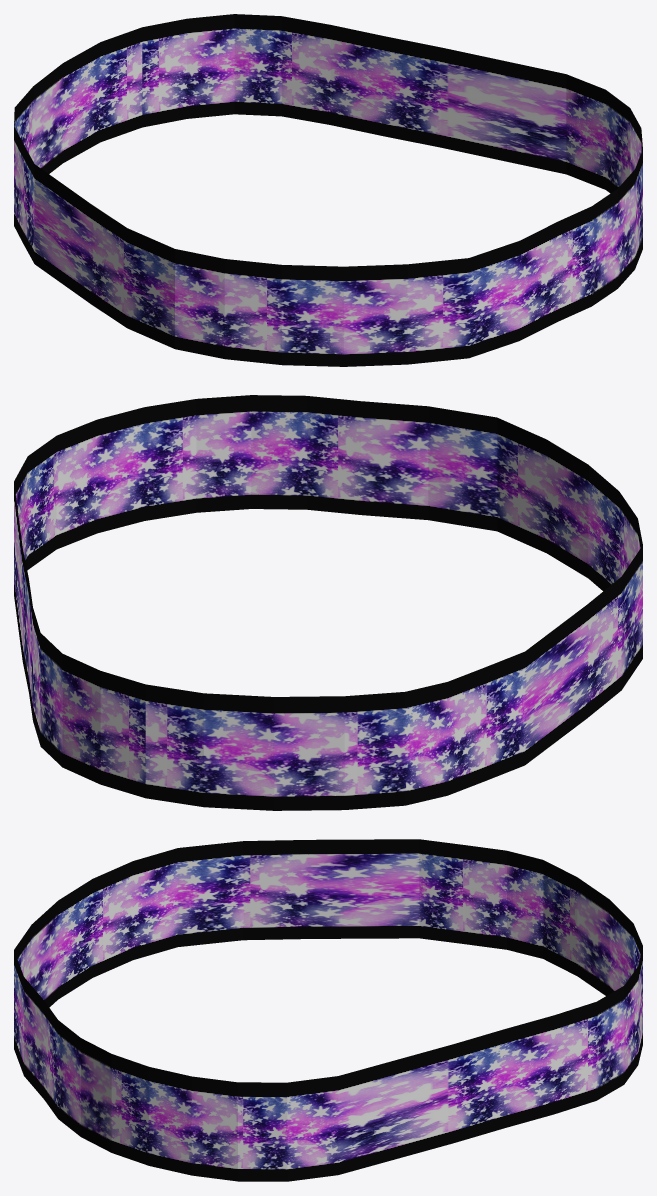
File: milkyWay.fbx
The picture shows the model from 3 angles, top to bottom: view 1: azimuth 30°, elevation 25°; view 2: azimuth 150°, elevation 25°; view 3: azimuth 270°, elevation 25°; orthographic projection. The views are drawn at different scales.
Parts seen in each view (by area): view 1: milkyway; view 2: milkyway; view 3: milkyway.
Boxes of the visible parts, x1=… form: milkyway: x1=14, y1=14, x2=642, y2=366; milkyway: x1=14, y1=395, x2=642, y2=810; milkyway: x1=14, y1=839, x2=642, y2=1181.
Size of the model in its own units: 9664 by 1836 by 10556.
